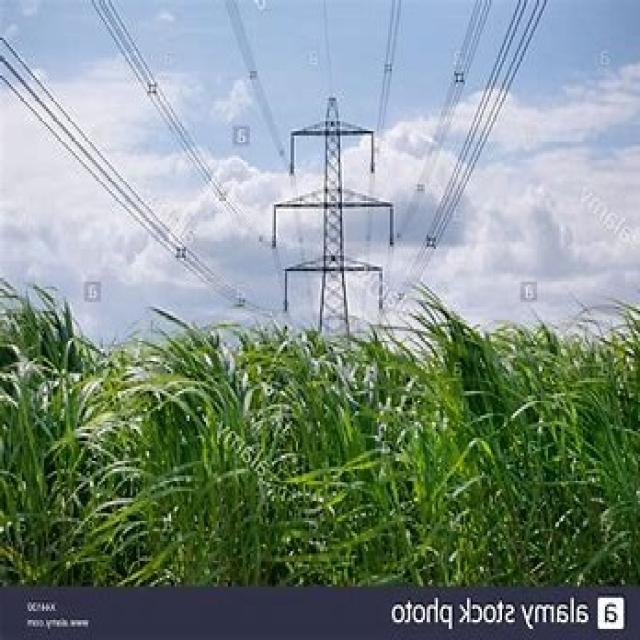utility poles: (258, 59, 409, 581)
